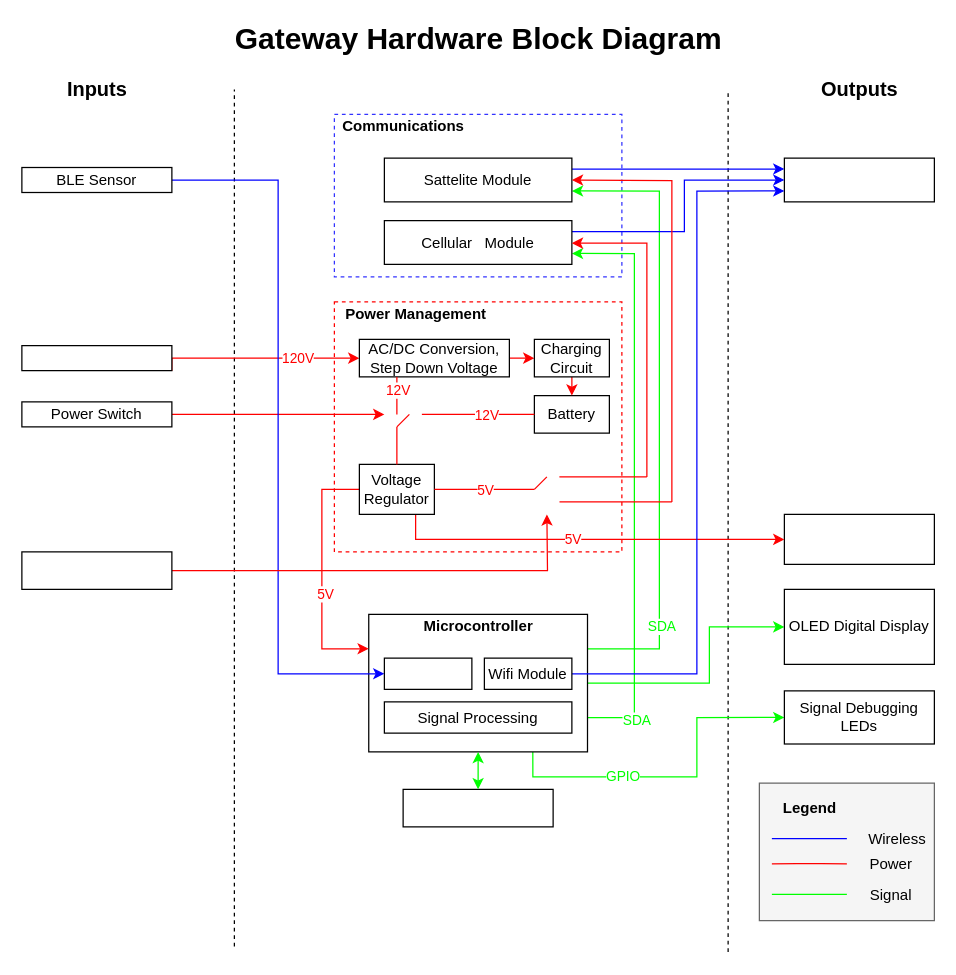
This 956x975 diagram has some shape labels left out. The centre of each missing label's shape, as x and y in pixels:
BLE Module: [427,673]
Communication Switch: [96,570]
Data Storage: [477,807]
Power Debugging LEDs: [858,538]
Power Source: [96,357]
Webapp: [858,179]
